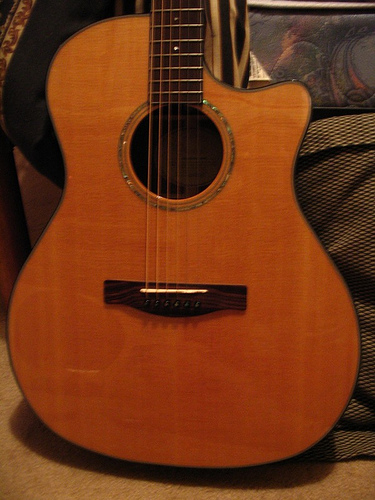guitar: (6, 2, 362, 475)
